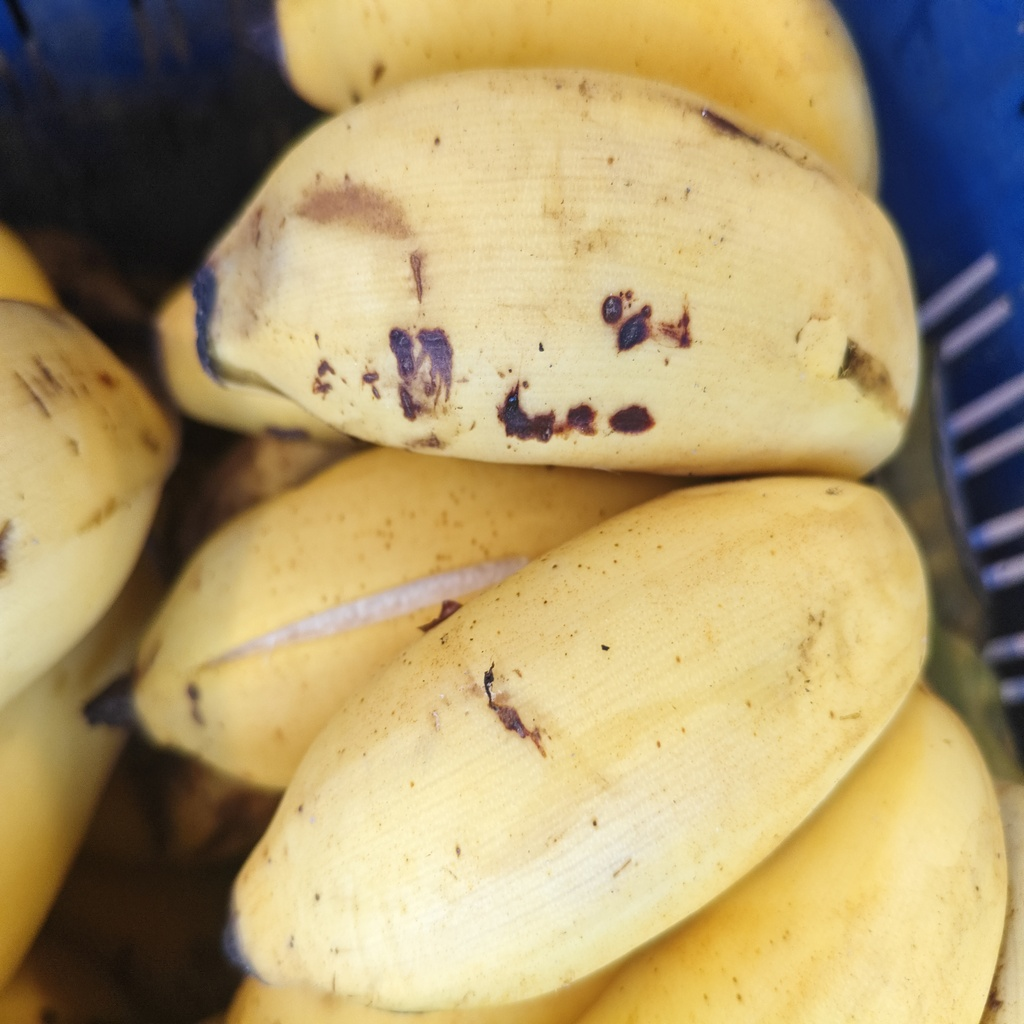healthy: (241, 480, 932, 1014), (197, 78, 918, 481)
